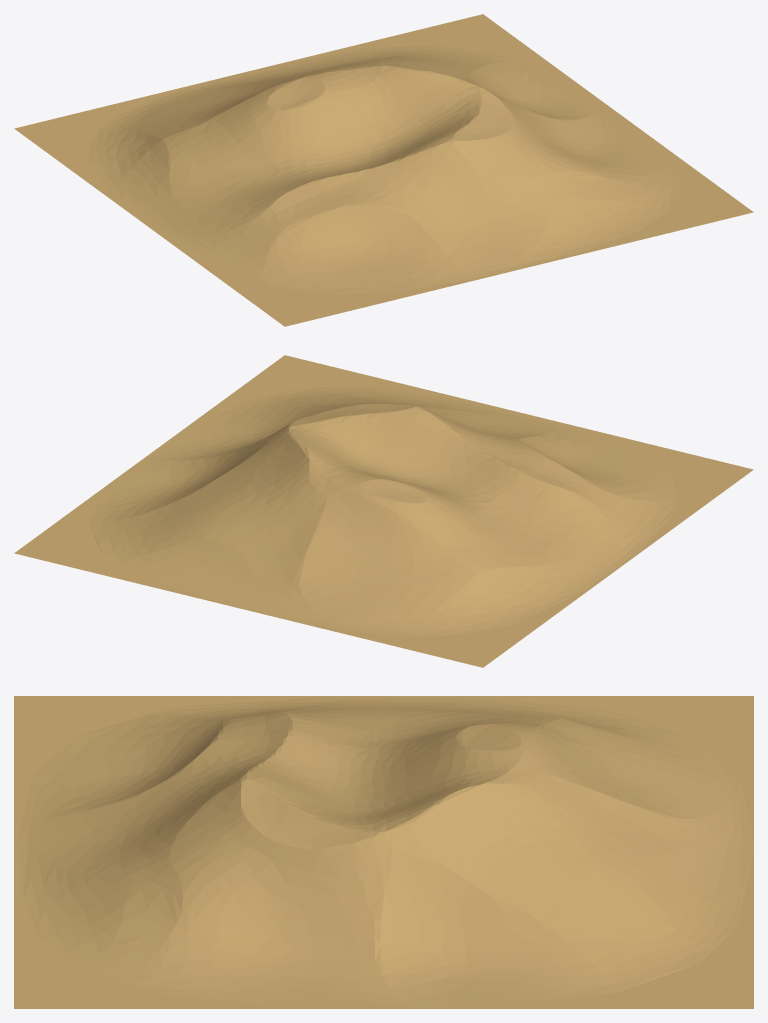
File: dune02.fbx
3 renders of one model, top to bottom at view 1: azimuth 30°, elevation 25°; view 2: azimuth 150°, elevation 25°; view 3: azimuth 270°, elevation 25°, orthographic. The views are drawn at different scales.
Visible parts, largest first — view 1: dune02; view 2: dune02; view 3: dune02.
Part boxes in pixels (x1,y1,x2,y2): dune02: (14, 14, 753, 326); dune02: (14, 355, 753, 667); dune02: (14, 696, 753, 1008).
Bounding box in the file's own units: 10000 × 1414 × 10000.
